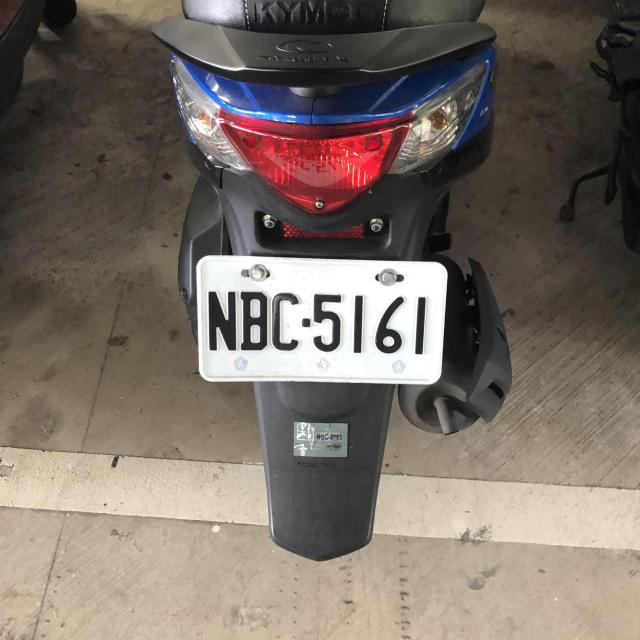W: (194, 250, 446, 388)
